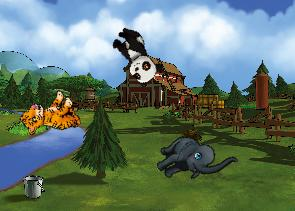elephant: (149, 116, 238, 202)
panda: (105, 22, 166, 89)
tiger: (16, 83, 86, 151)
